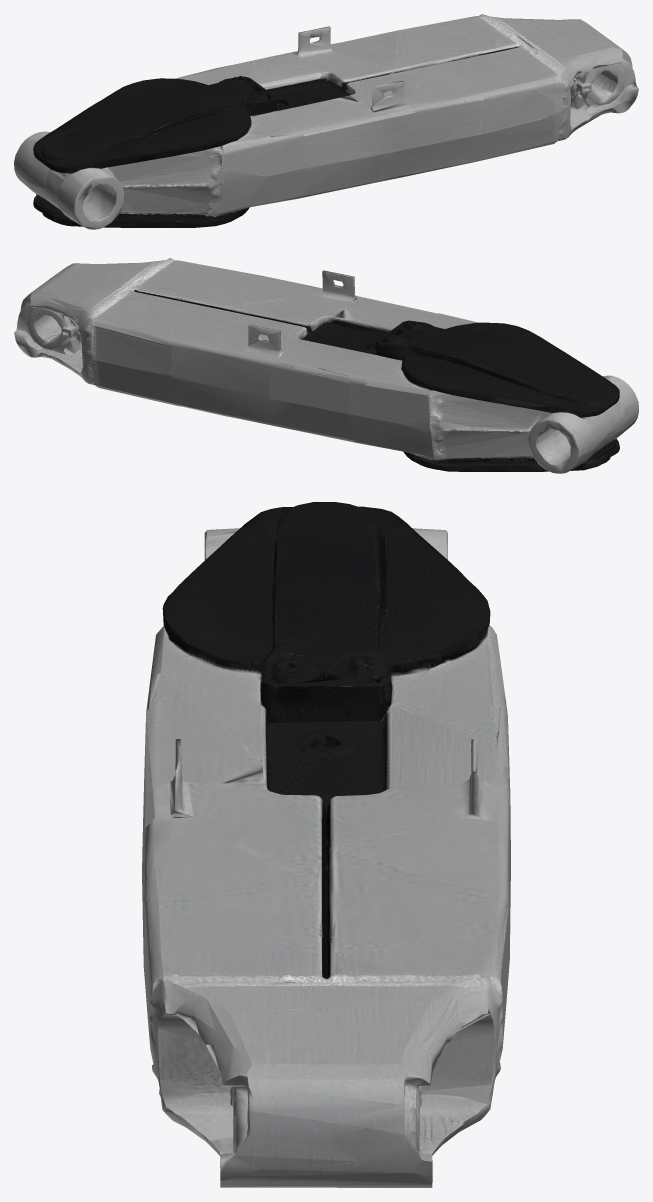
File: swingarm.glb
3 renders of one model, top to bottom at view 1: azimuth 30°, elevation 25°; view 2: azimuth 150°, elevation 25°; view 3: azimuth 270°, elevation 25°, orthographic. The views are drawn at different scales.
Parts seen in each view (by area): view 1: Mesh_0; view 2: Mesh_0; view 3: Mesh_0.
Part boxes in pixels (box(x1,y1,x2,y2)): Mesh_0: box(14, 14, 638, 229); Mesh_0: box(14, 258, 638, 473); Mesh_0: box(142, 502, 510, 1187).
Size of the model in its own units: 1.9 by 0.337 by 0.532.
Materials: 1 (1 with a texture image).
